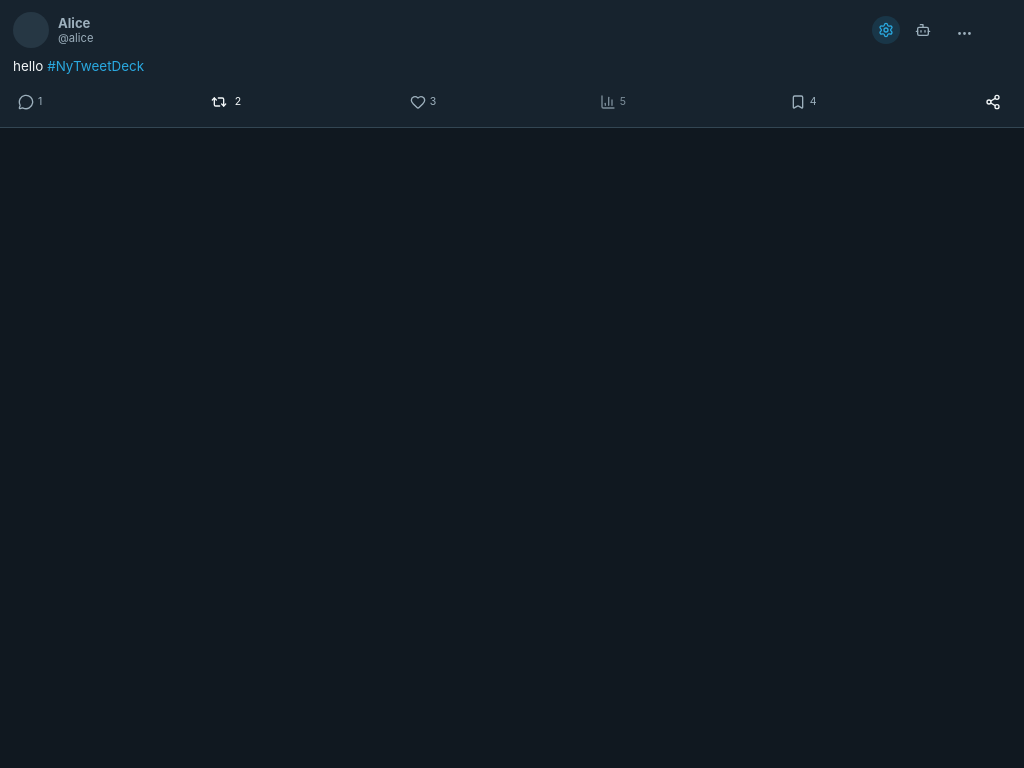
it: post actions › shows the at-username and hashtags and offers repost and quote choices
Expected: the text "@alice" is shown, 58,31 -> 93,45
Click the button named "リポスト" at [226, 102], box 201,86 -> 251,118
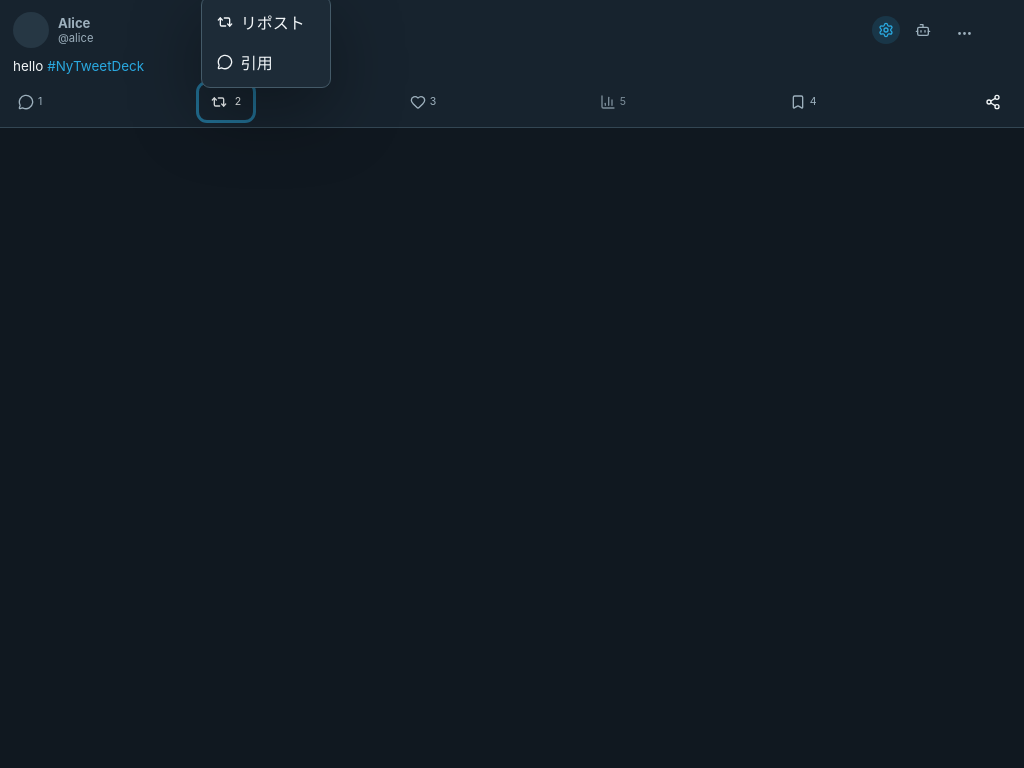
Now the button named "リポスト" is expanded, box 201,86 -> 251,118
Now the menu item "リポスト" is shown, box 207,2 -> 325,42
Press Escape
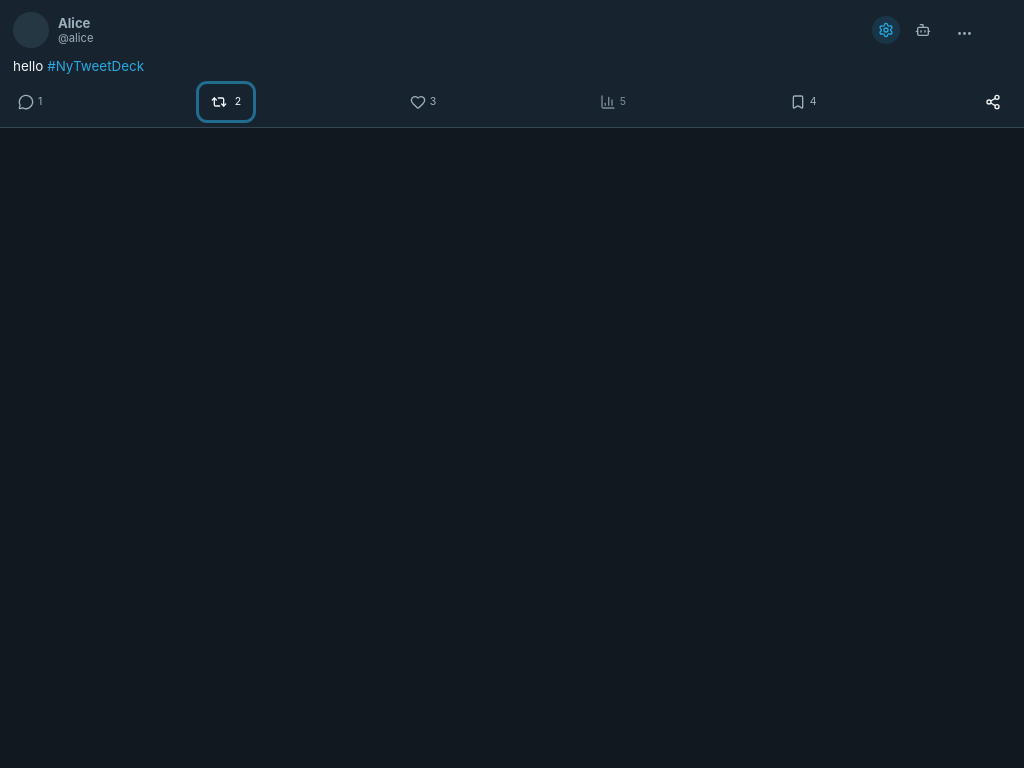
Now the button named "リポスト" is collapsed
Now the menu item "引用" is gone
Click the button named "リポスト" at [226, 102], box 201,86 -> 251,118
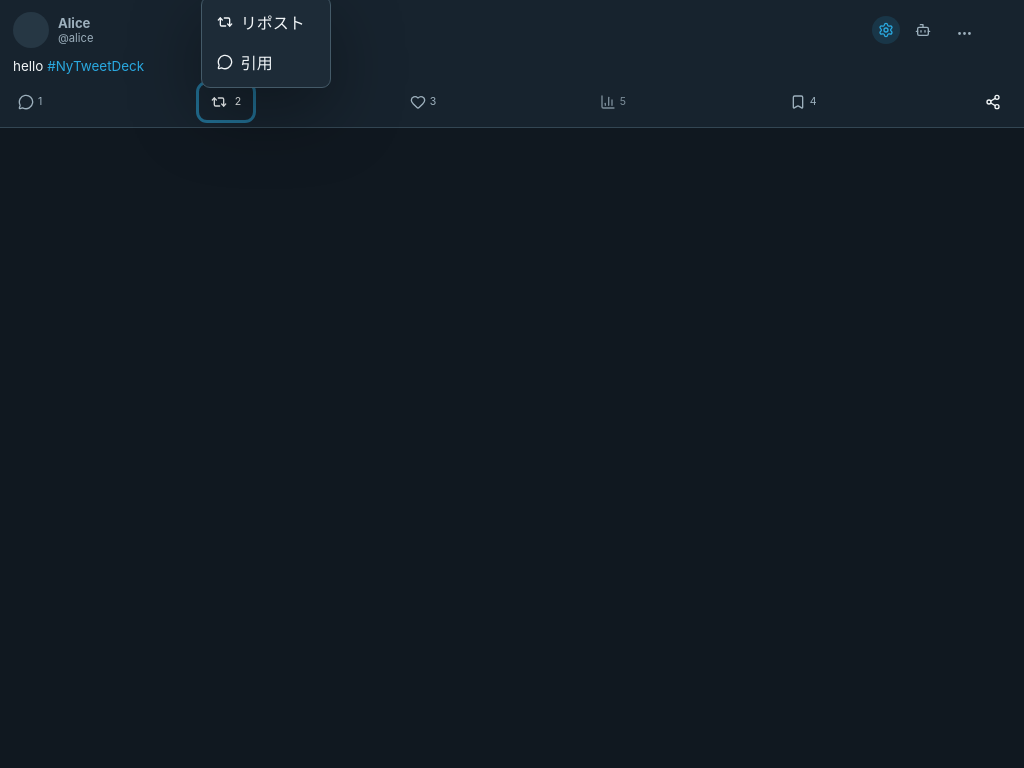
Click the menu item "引用" at [266, 62], box 207,42 -> 325,82
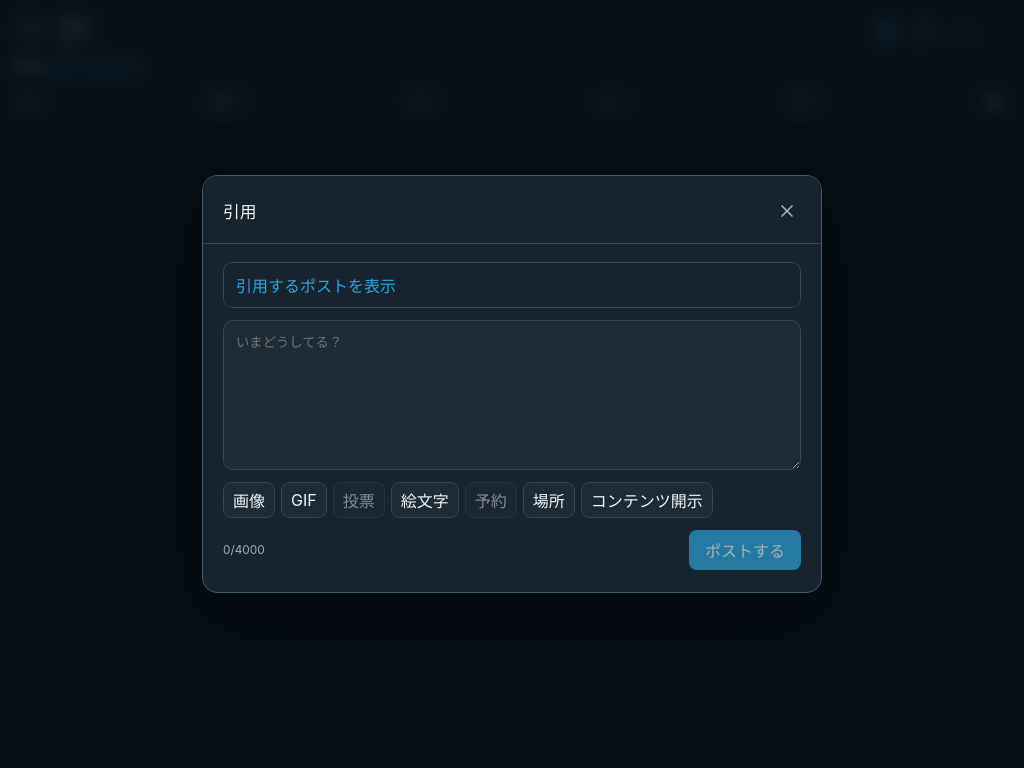
Now the heading "引用" is shown, box 223,198 -> 257,222
